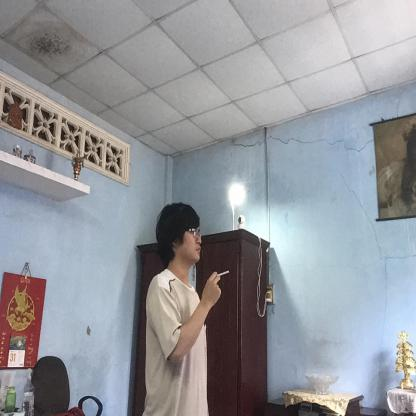cigarette: (215, 270, 231, 278)
person: (142, 202, 229, 416)
